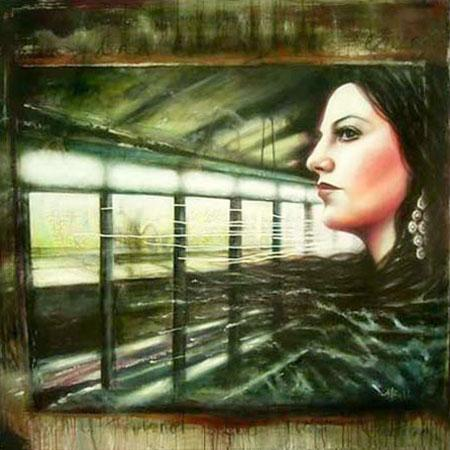person: (315, 63, 450, 319)
